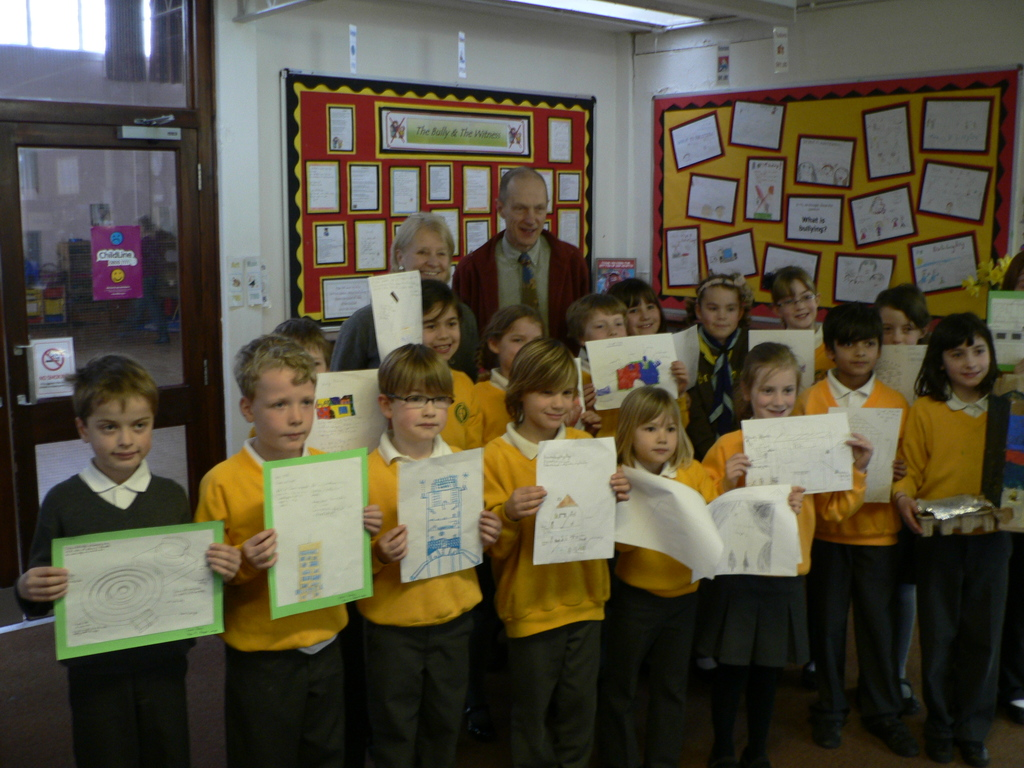Person: (14, 166, 1024, 767)
